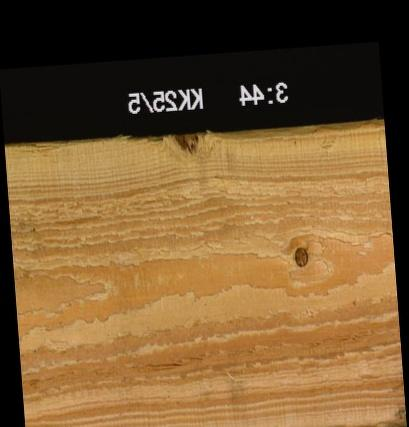dry_knot: (291, 244, 308, 267)
split: (23, 140, 55, 151)
wave: (56, 119, 382, 144)
